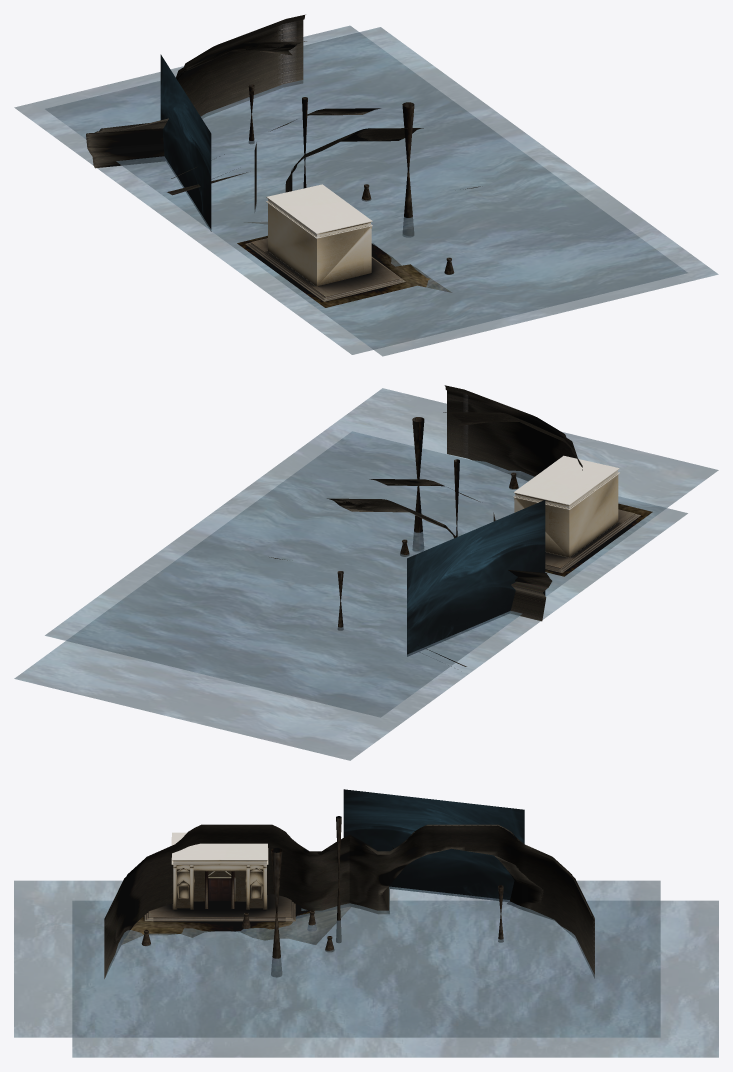
File: finalunderworld.fbx
3 views of the same model, one above another, from view 1: azimuth 30°, elevation 25°; view 2: azimuth 150°, elevation 25°; view 3: azimuth 270°, elevation 25° (orthographic). The views are drawn at different scales.
Parts seen in each view (by area): view 1: pPlane6, pPlane7, pPlane5, pPrism4, pPlane4, pCylinder9, pPlane2, pCone5; view 2: pPlane7, pPlane6, pPlane4, pPlane5, pPrism4, pCone5, pCylinder9, pPlane2; view 3: pPlane7, pPlane6, pPlane5, pPlane4, pPrism4, pPlane2, pCylinder9, pCone5, door.
Boxes of the visible parts, <box> form: pPlane6: <box>45,27,718,356</box>; pPlane7: <box>14,25,687,354</box>; pPlane5: <box>86,14,480,210</box>; pPrism4: <box>266,184,372,286</box>; pPlane4: <box>160,54,211,231</box>; pCylinder9: <box>245,238,405,301</box>; pPlane2: <box>237,222,451,307</box>; pCone5: <box>248,84,454,274</box>; pPlane7: <box>14,431,687,760</box>; pPlane6: <box>45,388,718,717</box>; pPlane4: <box>407,500,545,656</box>; pPlane5: <box>269,385,582,666</box>; pPrism4: <box>513,455,619,557</box>; pCone5: <box>337,417,518,630</box>; pCylinder9: <box>545,509,640,572</box>; pPlane2: <box>545,503,652,576</box>; pPlane7: <box>72,900,718,1057</box>; pPlane6: <box>14,880,660,1037</box>; pPlane5: <box>104,824,594,978</box>; pPlane4: <box>343,789,524,901</box>; pPrism4: <box>171,832,268,909</box>; pPlane2: <box>121,904,350,944</box>; pCylinder9: <box>144,871,295,921</box>; pCone5: <box>141,816,503,977</box>; door: <box>208,871,235,901</box>.
Bounding box in the file's own units: 140 × 51.24 × 250.
8 materials, 8 textured.
